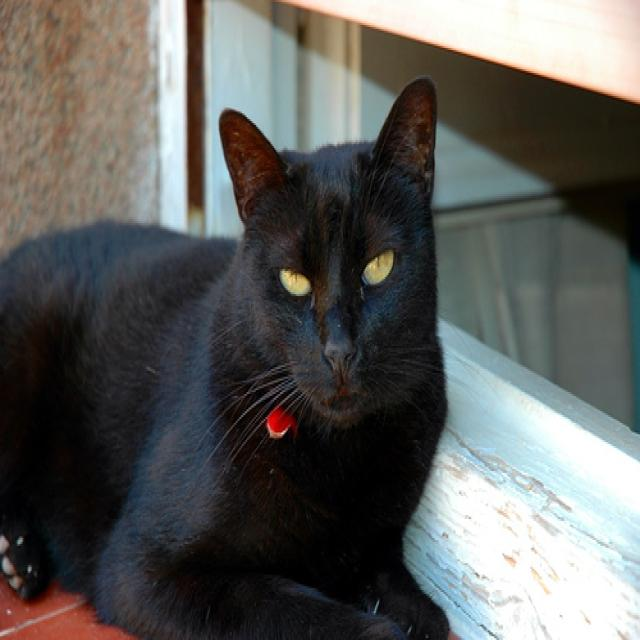cat: (1, 74, 454, 639)
